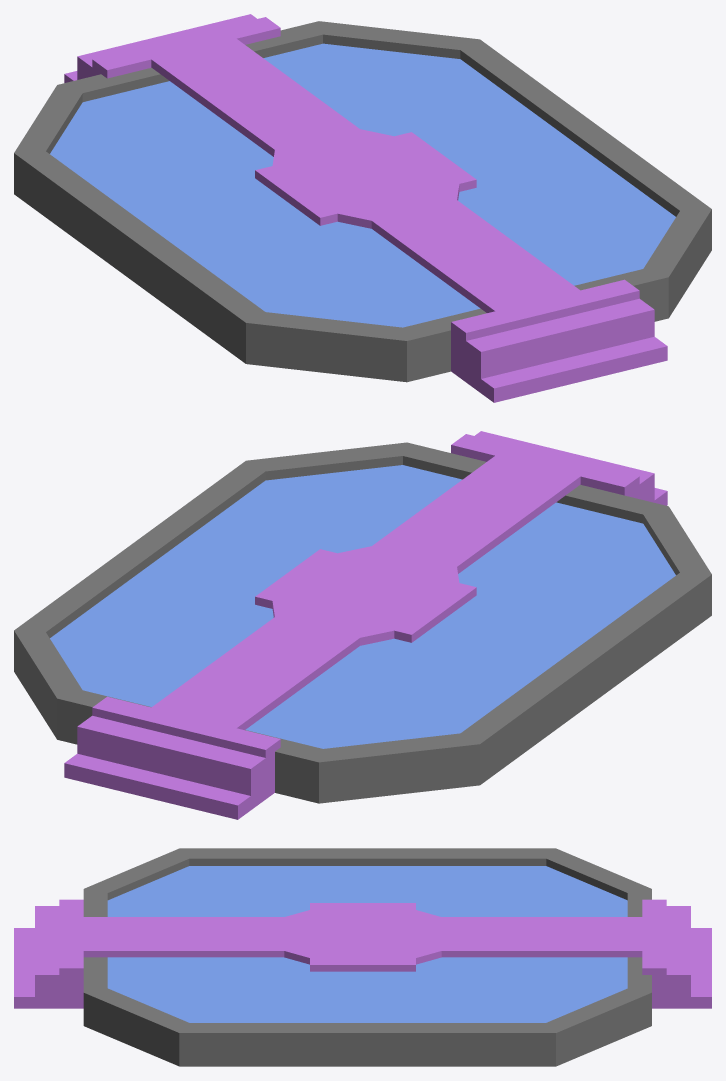
The model's file is Pool.fbx.
3 renders of one model, top to bottom at view 1: azimuth 30°, elevation 25°; view 2: azimuth 150°, elevation 25°; view 3: azimuth 270°, elevation 25°, orthographic. The views are drawn at different scales.
Visible parts, largest first — view 1: Rectangle002, Box001, Rectangle001; view 2: Rectangle002, Box001, Rectangle001; view 3: Rectangle002, Box001, Rectangle001.
Boxes of the visible parts, x1=… form: Rectangle002: x1=50, y1=43, x2=675, y2=327; Box001: x1=64, y1=14, x2=667, y2=402; Rectangle001: x1=14, y1=21, x2=711, y2=382; Rectangle002: x1=50, y1=465, x2=675, y2=748; Box001: x1=64, y1=431, x2=667, y2=819; Rectangle001: x1=14, y1=442, x2=711, y2=803; Rectangle002: x1=107, y1=866, x2=627, y2=1022; Box001: x1=14, y1=899, x2=711, y2=1008; Rectangle001: x1=83, y1=848, x2=651, y2=1066.
Bounding box in the file's own units: 172 × 275 × 17.5.
